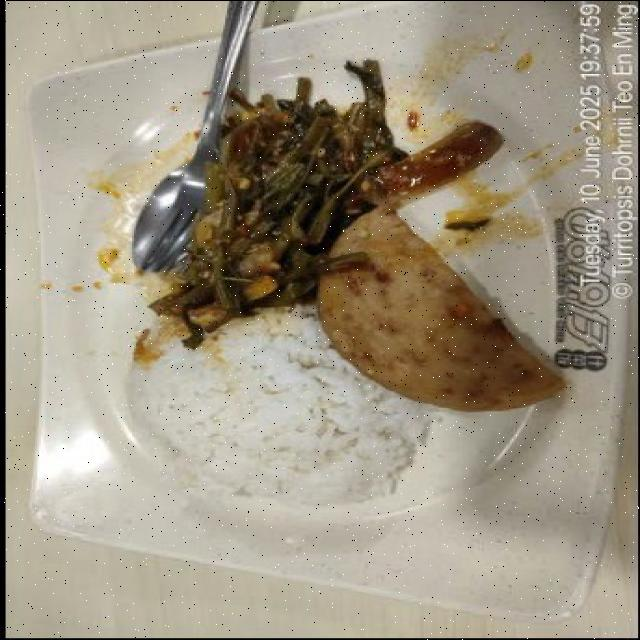Green veg: (151, 62, 402, 348)
Pork: (318, 208, 562, 411)
Rice: (141, 307, 428, 501)
